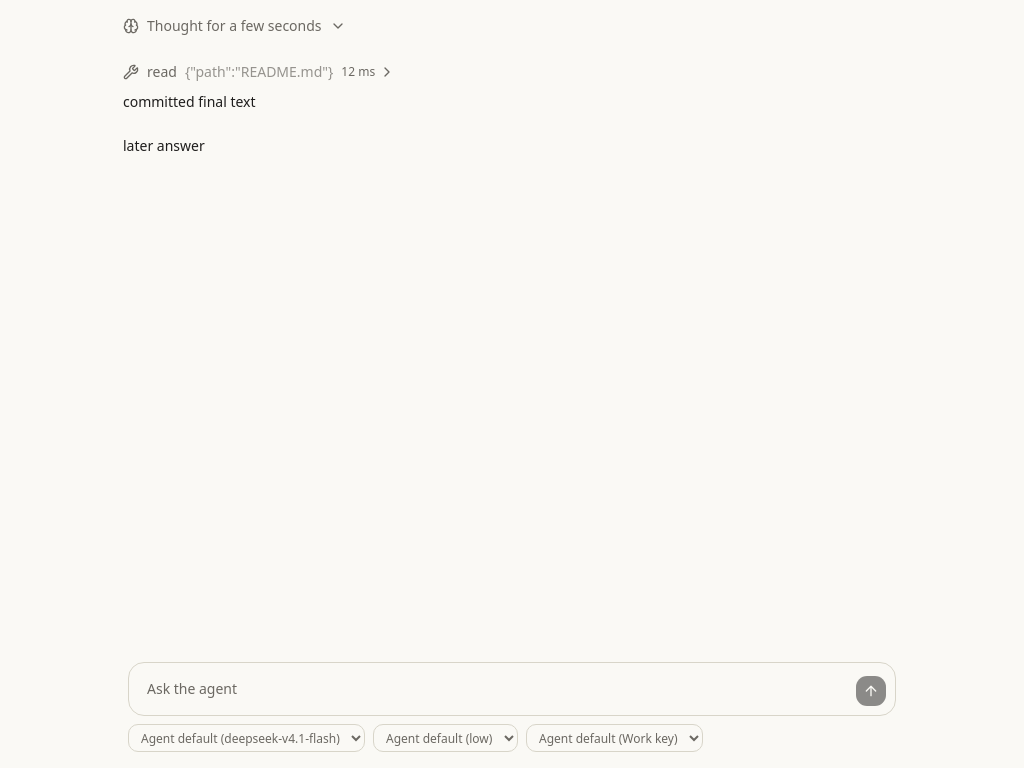
Test: ChatPane › renders committed thinking, its tool row and text in order inside the assistant turn
Expected: the text "committed reasoning" is not shown
Click the button "Thought for a few seconds".
click(234, 26)  # box [123,16,891,36]
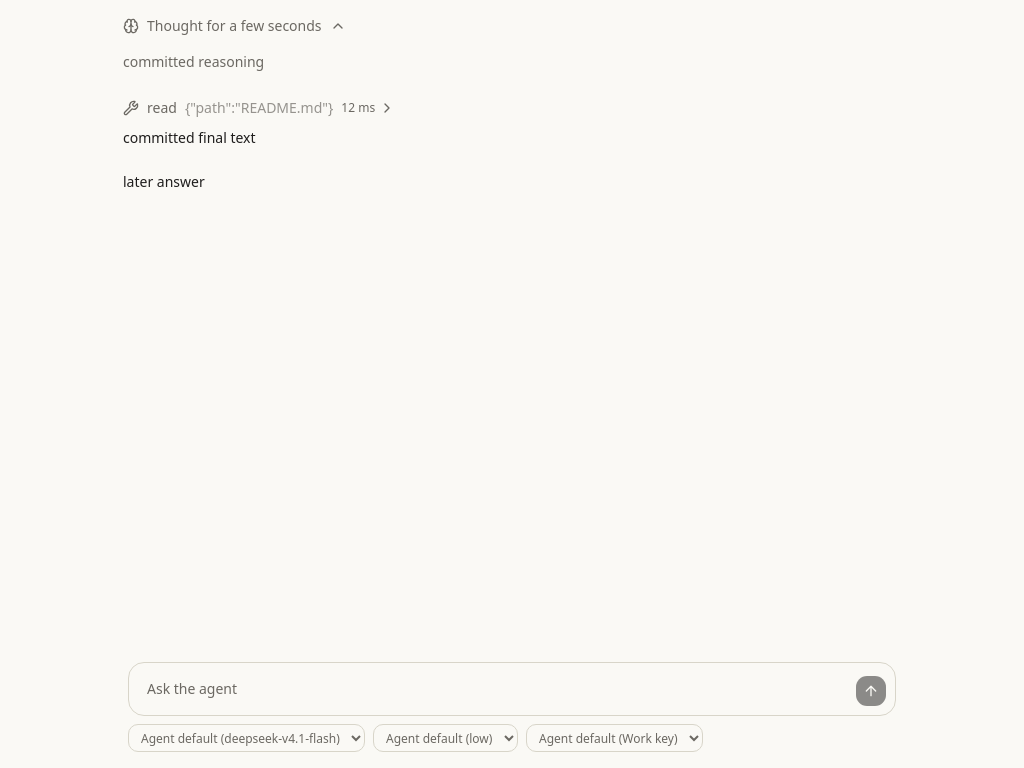
Result: the text "committed reasoning" is shown at [123,52,264,71]
